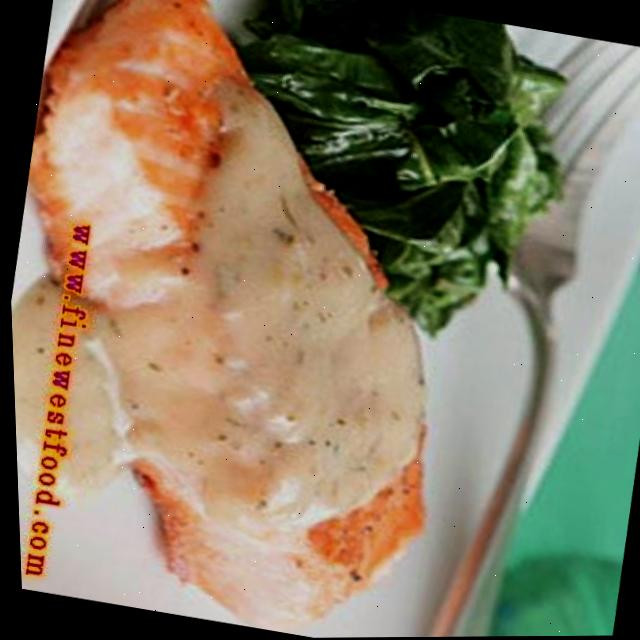熟制海鲜: (0, 0, 540, 640)
